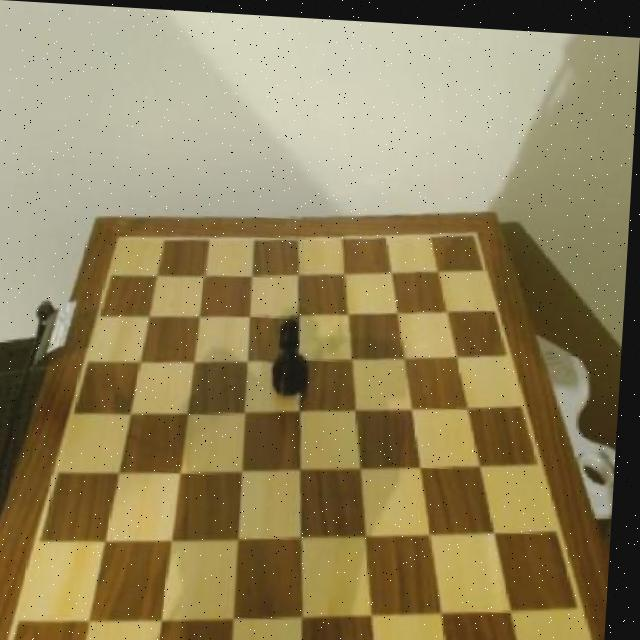black-knight: (269, 307, 316, 396)
